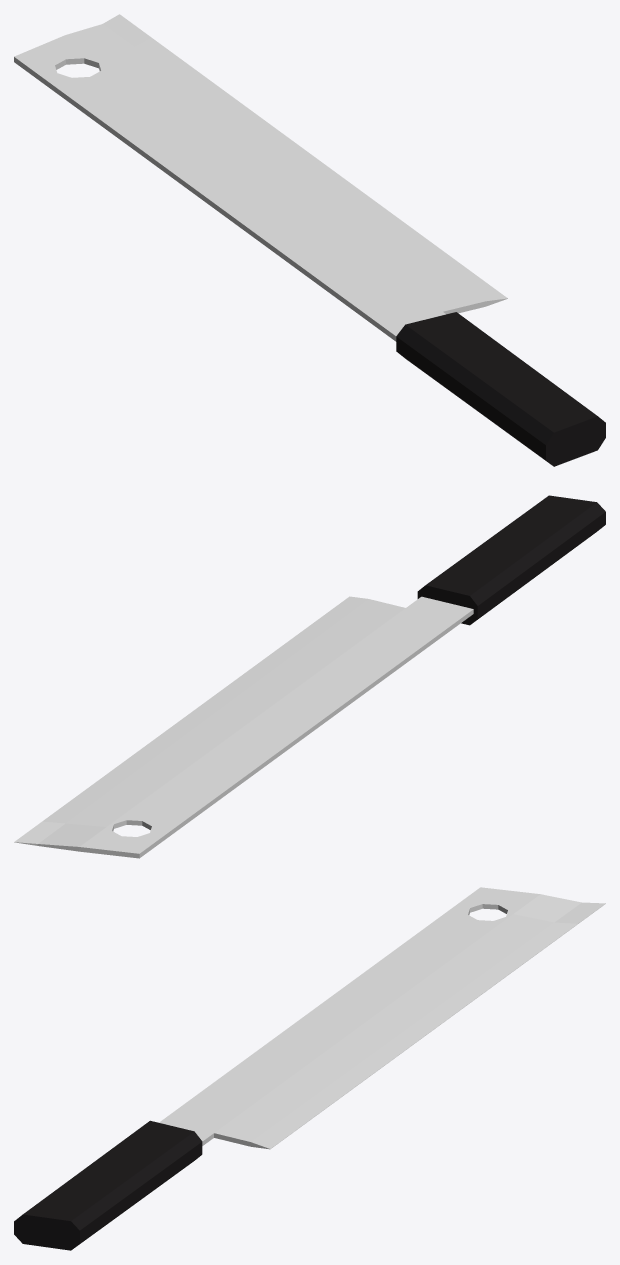
File: Knife_05.fbx
3 views of the same model, one above another, from view 1: azimuth 30°, elevation 25°; view 2: azimuth 150°, elevation 25°; view 3: azimuth 330°, elevation 25° (orthographic). The views are drawn at different scales.
Visible parts, largest first — view 1: Knife_05; view 2: Knife_05; view 3: Knife_05.
Part boxes in pixels (left/top/right/bottom): Knife_05: left=14, top=14, right=605, bottom=466; Knife_05: left=14, top=495, right=605, bottom=858; Knife_05: left=14, top=887, right=605, bottom=1250.
Size of the model in its own units: 15.14 by 3.8 by 112.
